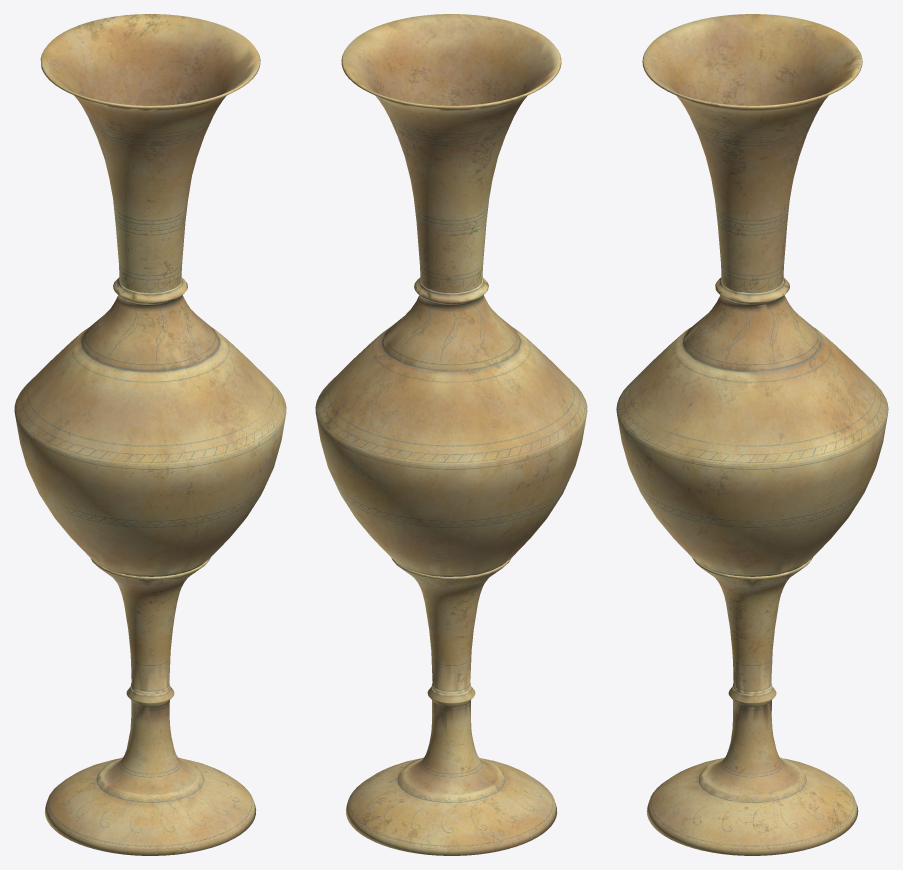
File: brass_vase_01.glb
The picture shows the model from 3 angles, left to right: view 1: azimuth 30°, elevation 25°; view 2: azimuth 150°, elevation 25°; view 3: azimuth 270°, elevation 25°; orthographic projection.
Parts seen in each view (by area): view 1: brass_vase_01; view 2: brass_vase_01; view 3: brass_vase_01.
Boxes of the visible parts, x1=… form: brass_vase_01: x1=14, y1=14, x2=286, y2=855; brass_vase_01: x1=315, y1=14, x2=587, y2=855; brass_vase_01: x1=616, y1=14, x2=888, y2=855.
Size of the model in its own units: 0.2272 by 0.6925 by 0.2272.
Materials: 1 (1 with a texture image).
